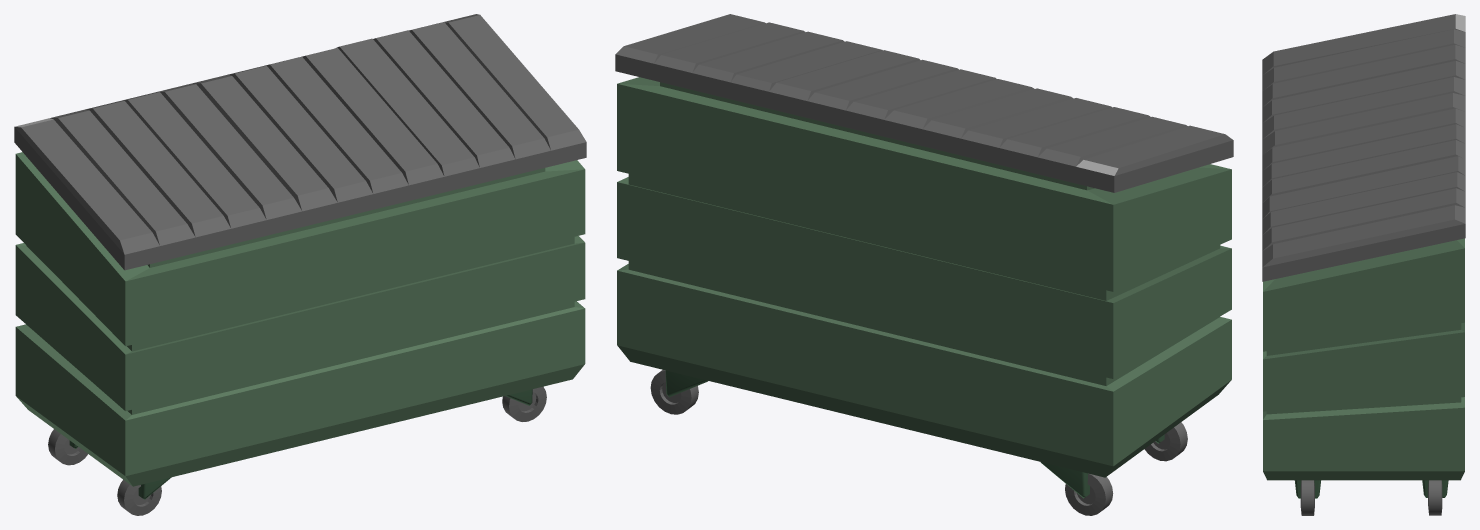
The model's file is DUMPSTER GREEN.fbx.
3 views of the same model, side by side, from view 1: azimuth 30°, elevation 25°; view 2: azimuth 150°, elevation 25°; view 3: azimuth 270°, elevation 25° (orthographic). The views are drawn at different scales.
Parts seen in each view (by area): view 1: pCube1, polySurface2, polySurface8, polySurface4; view 2: pCube1, polySurface4, polySurface6, polySurface2, polySurface3; view 3: pCube1, polySurface6, polySurface8.
Boxes of the visible parts, left/top/right/bottom form: pCube1: left=14, top=14, right=586, bottom=486; polySurface2: left=117, top=479, right=161, bottom=515; polySurface8: left=502, top=386, right=546, bottom=421; polySurface4: left=48, top=429, right=87, bottom=465; pCube1: left=615, top=14, right=1233, bottom=477; polySurface4: left=1065, top=473, right=1113, bottom=515; polySurface6: left=650, top=370, right=698, bottom=414; polySurface2: left=1144, top=422, right=1187, bottom=461; polySurface3: left=1040, top=462, right=1089, bottom=498; pCube1: left=1262, top=14, right=1465, bottom=480; polySurface6: left=1428, top=480, right=1442, bottom=515; polySurface8: left=1300, top=480, right=1314, bottom=515.
Bounding box in the file's own units: 0.0879 × 0.0615 × 0.0363.
